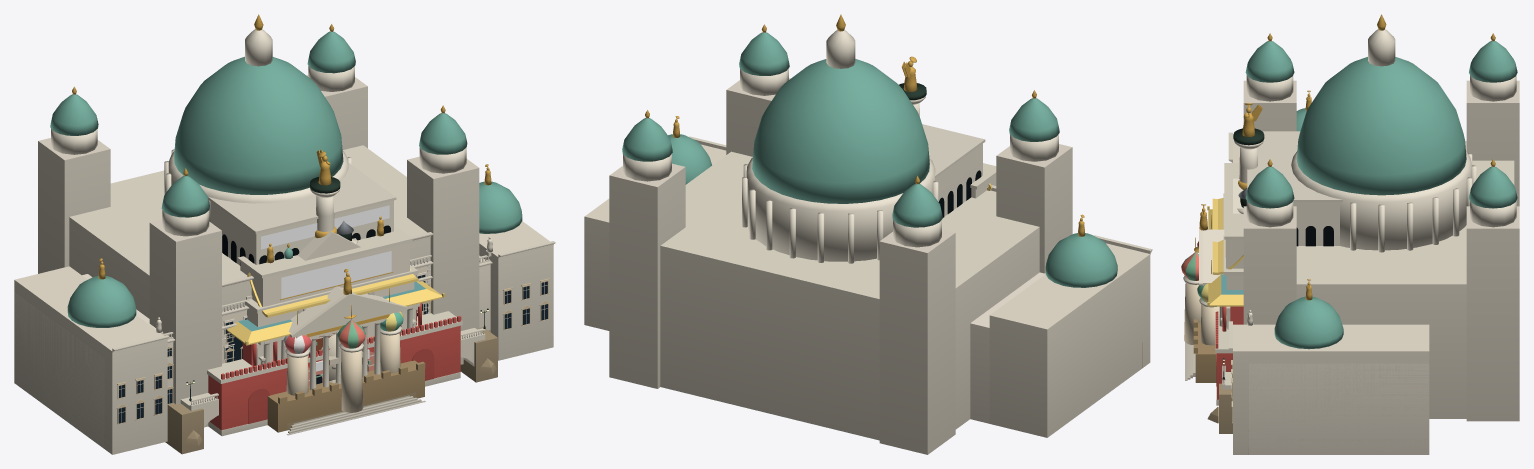
The model's file is city-kit.glb.
3 views of the same model, side by side, from view 1: azimuth 30°, elevation 25°; view 2: azimuth 150°, elevation 25°; view 3: azimuth 270°, elevation 25° (orthographic). The views are drawn at different scales.
Parts seen in each view (by area): view 1: kit-cathedral|stone limestone, kit-palace|stone limestone, kit-cathedral|roof copper patina, kit-palace|plaster, kit-cn-gate|lacquer, kit-quadrato|stone limestone, kit-arch|stone limestone, kit-palace|roof copper patina, kit-lighthouse|stone rustica, kit-onion-church|plaster, kit-bridge|stone rustica, kit-cn-gate|glazed tile (+11 smaller); view 2: kit-cathedral|stone limestone, kit-cathedral|roof copper patina, kit-palace|stone limestone, kit-palace|roof copper patina, kit-quadrato|stone limestone, kit-palace|plaster; view 3: kit-cathedral|stone limestone, kit-cathedral|roof copper patina, kit-palace|plaster, kit-palace|stone limestone, kit-quadrato|stone limestone, kit-palace|roof copper patina, kit-arch|stone limestone, kit-cn-gate|glazed tile, kit-onion-church|plaster, kit-cn-gate|lacquer, kit-lighthouse|stone rustica, kit-bridge|stone rustica (+7 smaller).
Part boxes in pixels (box(x1,y1,x2,y2)): kit-cathedral|stone limestone: box(38, 29, 479, 426); kit-palace|stone limestone: box(14, 221, 555, 454); kit-cathedral|roof copper patina: box(50, 31, 467, 217); kit-palace|plaster: box(14, 255, 490, 448); kit-cn-gate|lacquer: box(208, 281, 461, 430); kit-quadrato|stone limestone: box(208, 162, 396, 265); kit-arch|stone limestone: box(237, 225, 420, 366); kit-palace|roof copper patina: box(67, 181, 522, 327); kit-lighthouse|stone rustica: box(267, 360, 425, 432); kit-onion-church|plaster: box(286, 333, 400, 412); kit-bridge|stone rustica: box(165, 327, 497, 454); kit-cn-gate|glazed tile: box(227, 268, 445, 345); kit-cathedral|stone limestone: box(609, 30, 1072, 454); kit-cathedral|roof copper patina: box(622, 32, 1059, 227); kit-palace|stone limestone: box(584, 136, 1152, 437); kit-palace|roof copper patina: box(668, 134, 1117, 287); kit-quadrato|stone limestone: box(922, 124, 985, 216); kit-palace|plaster: box(970, 272, 1045, 423); kit-cathedral|stone limestone: box(1233, 29, 1519, 421); kit-cathedral|roof copper patina: box(1245, 41, 1517, 208); kit-palace|plaster: box(1249, 363, 1429, 454); kit-palace|stone limestone: box(1185, 132, 1429, 454); kit-quadrato|stone limestone: box(1247, 131, 1342, 245); kit-palace|roof copper patina: box(1274, 108, 1343, 349); kit-arch|stone limestone: box(1219, 163, 1243, 328); kit-cn-gate|glazed tile: box(1207, 198, 1243, 306); kit-onion-church|plaster: box(1184, 283, 1219, 345); kit-cn-gate|lacquer: box(1215, 274, 1243, 399); kit-lighthouse|stone rustica: box(1193, 319, 1216, 382); kit-bridge|stone rustica: box(1207, 383, 1232, 433).
Size of the model in its own units: 97 by 71.8 by 63.73.
